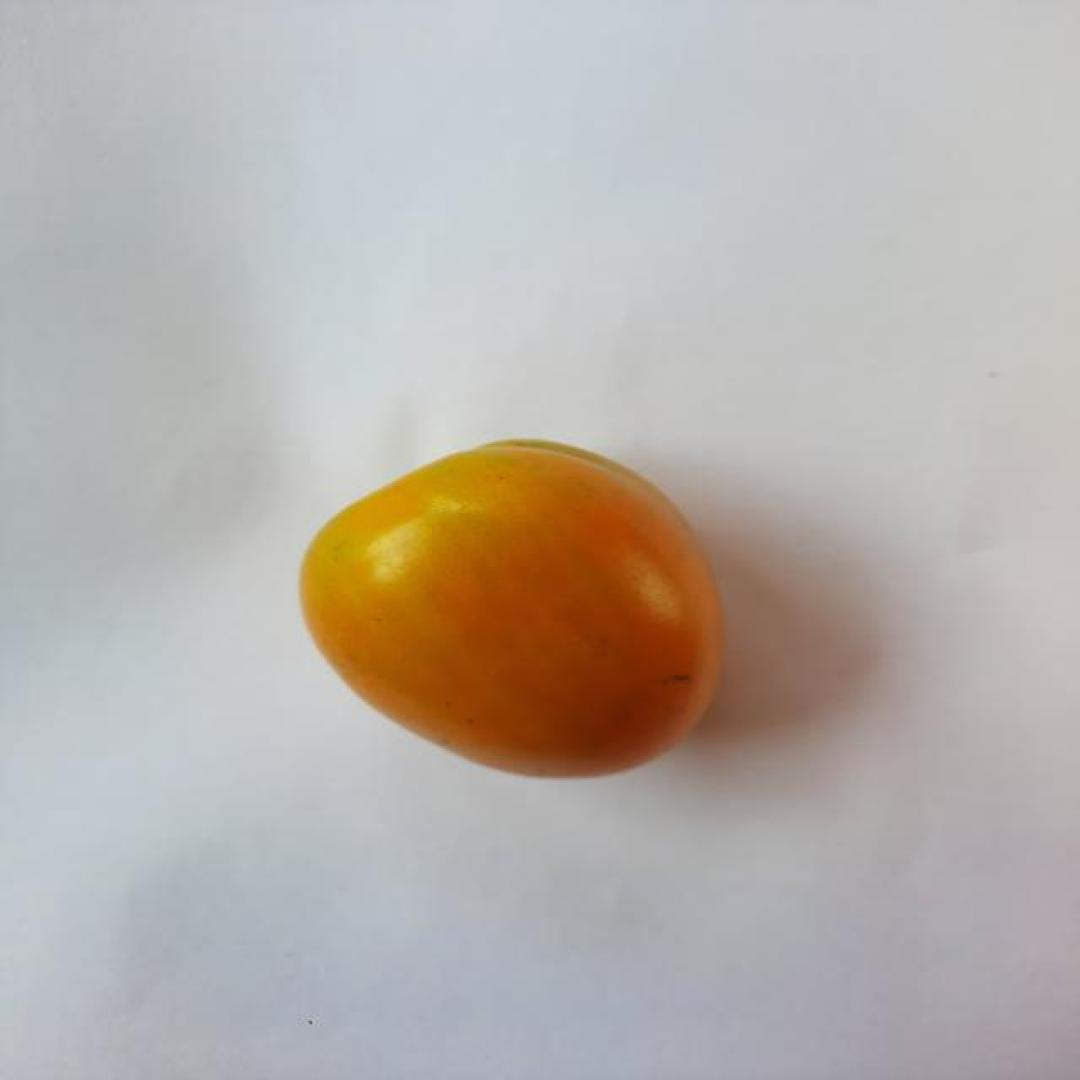setengah_matang: (297, 434, 731, 783)
